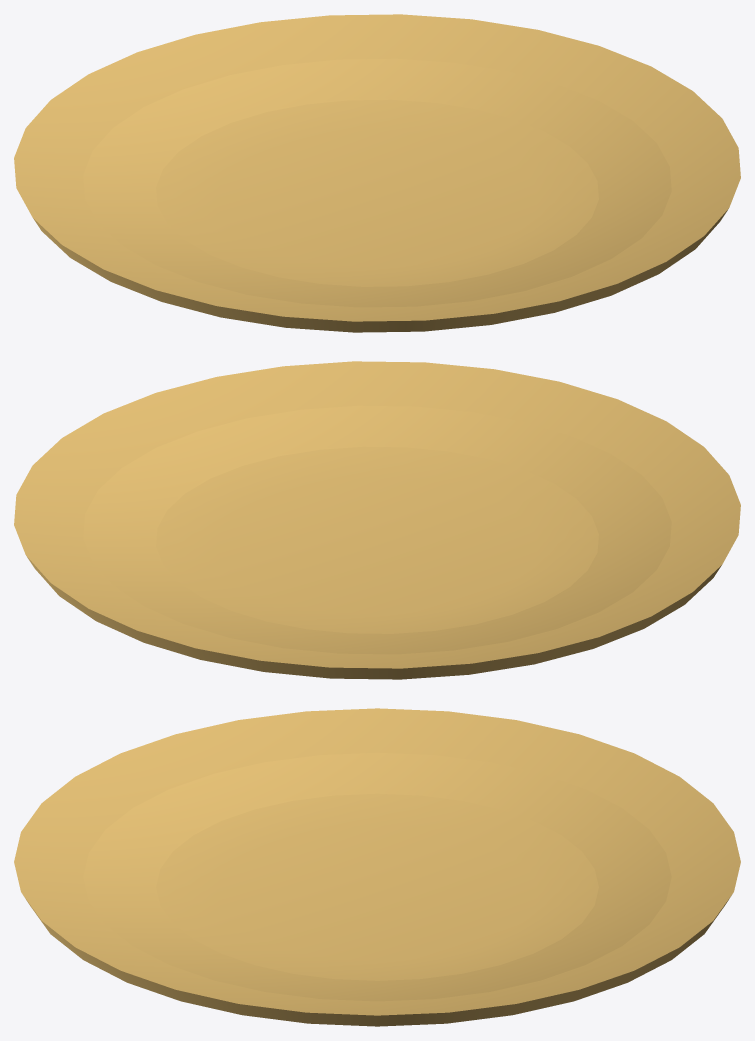
File: PLATE.fbx
3 renders of one model, top to bottom at view 1: azimuth 30°, elevation 25°; view 2: azimuth 150°, elevation 25°; view 3: azimuth 270°, elevation 25°, orthographic.
Parts seen in each view (by area): view 1: Circle; view 2: Circle; view 3: Circle.
Boxes of the visible parts, x1,y1,x2,y2 form: Circle: [14, 14, 740, 332]; Circle: [14, 361, 740, 679]; Circle: [14, 708, 740, 1026].
Bounding box in the file's own units: 543 × 56.18 × 543.
